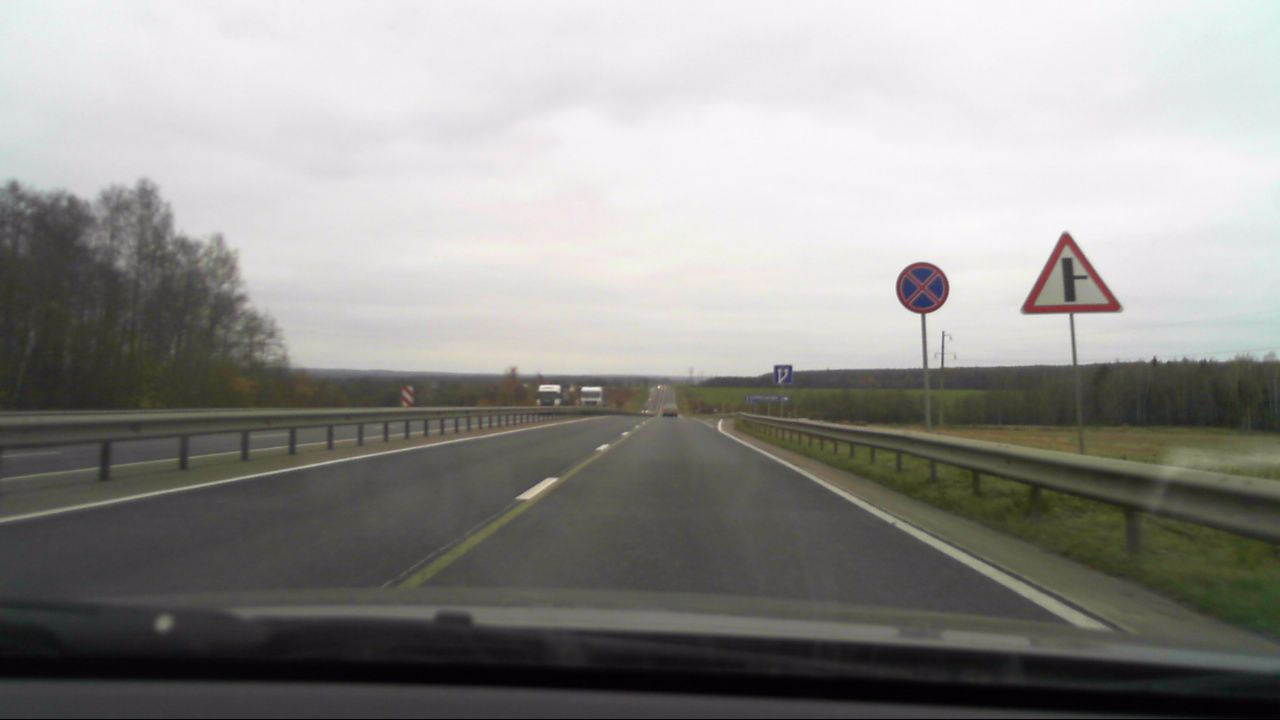No Parking: (896, 262, 948, 313)
